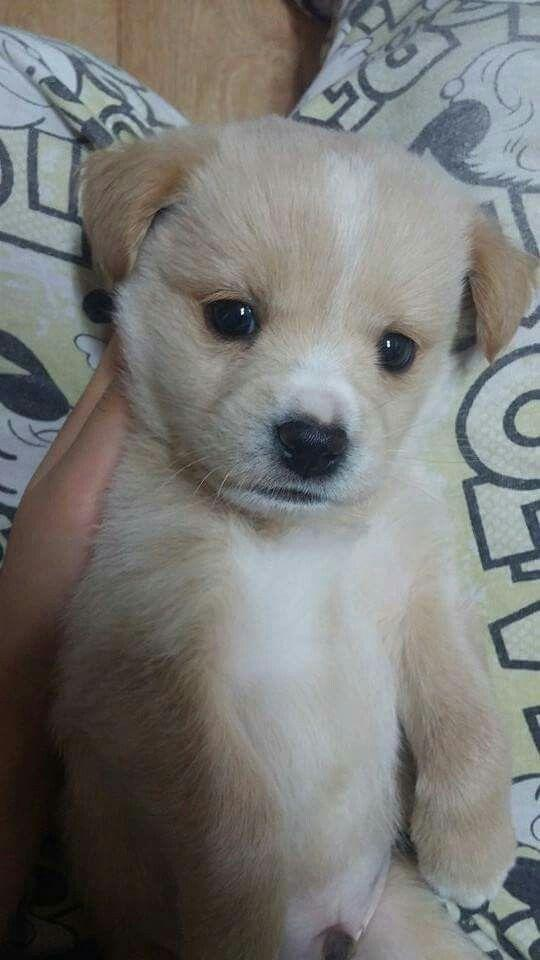puppy-dog: (40, 120, 537, 960)
